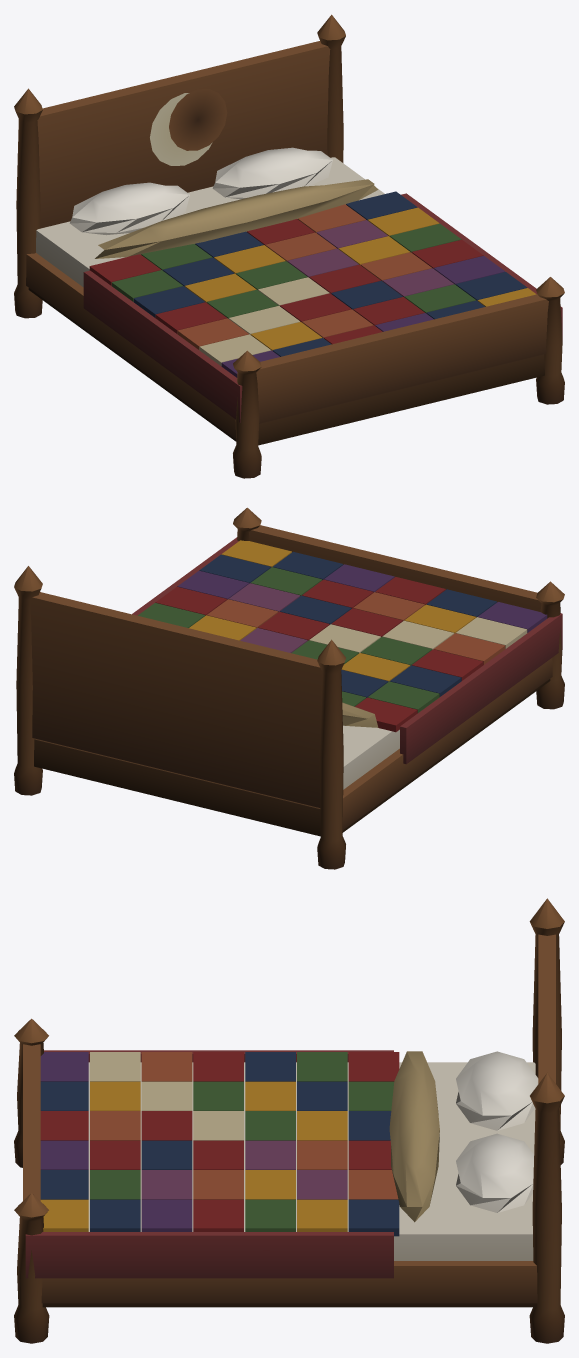
The model's file is bed.glb.
The picture shows the model from 3 angles, top to bottom: view 1: azimuth 30°, elevation 25°; view 2: azimuth 150°, elevation 25°; view 3: azimuth 270°, elevation 25°; orthographic projection. The views are drawn at different scales.
Visible parts, largest first — view 1: bed; view 2: bed; view 3: bed.
Boxes of the visible parts, <box> form: bed: <box>14,14,564,478</box>; bed: <box>14,507,564,869</box>; bed: <box>14,898,564,1343</box>.
Size of the model in its own units: 1.52 by 0.99 by 1.87.
